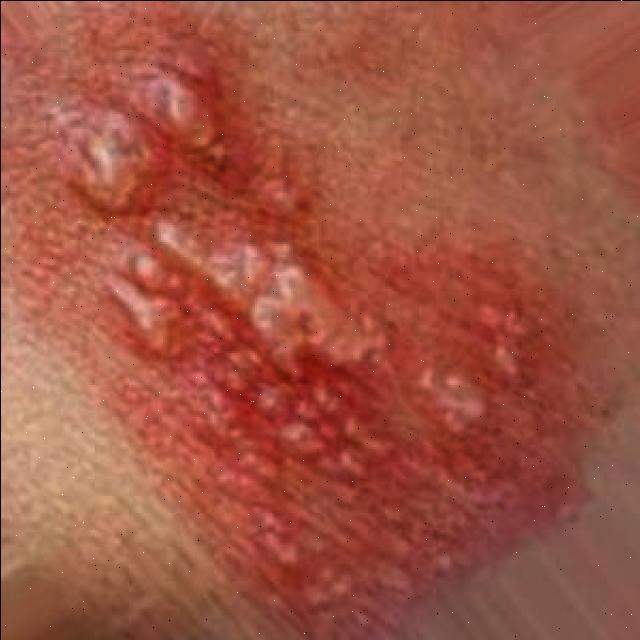Shingles: (0, 46, 589, 634)
